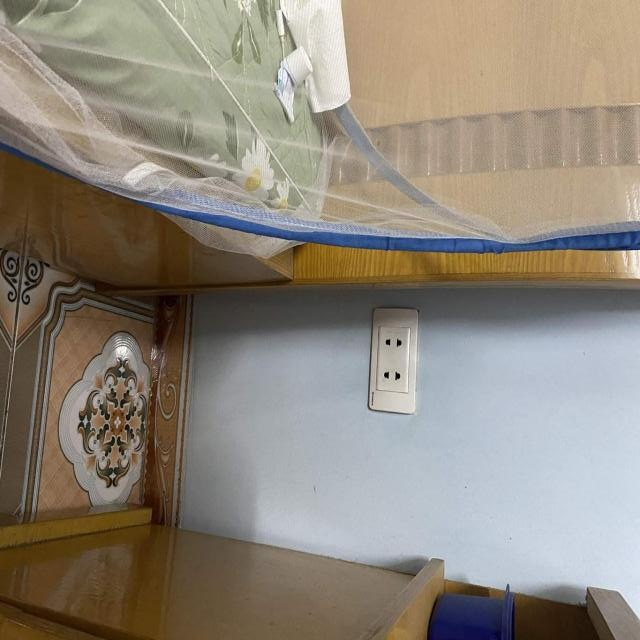outlet: (368, 307, 419, 414)
